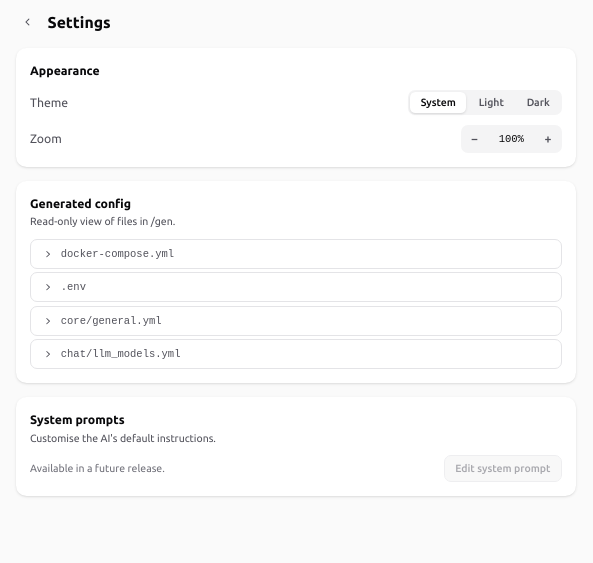
settings/+page.svelte › toggling a file loads and displays its content
The width and height of the screenshot is (593, 563).
Click the button with test id "toggle-docker-compose.yml": (117,254) [31,240,561,268]
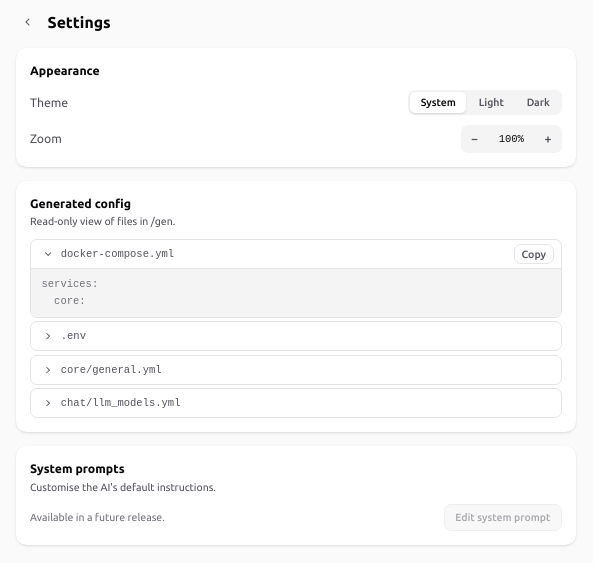
Result: the text with test id "content-docker-compose.yml" shows "services" at [42,278,98,307]
